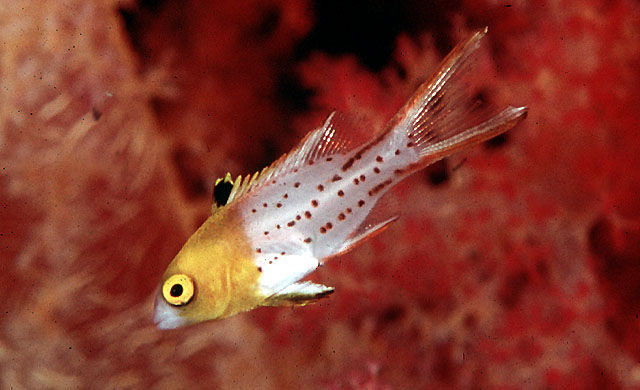fish: (151, 26, 529, 333)
